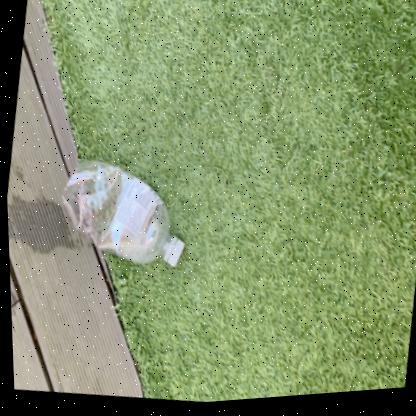Plastic: (61, 162, 182, 268)
